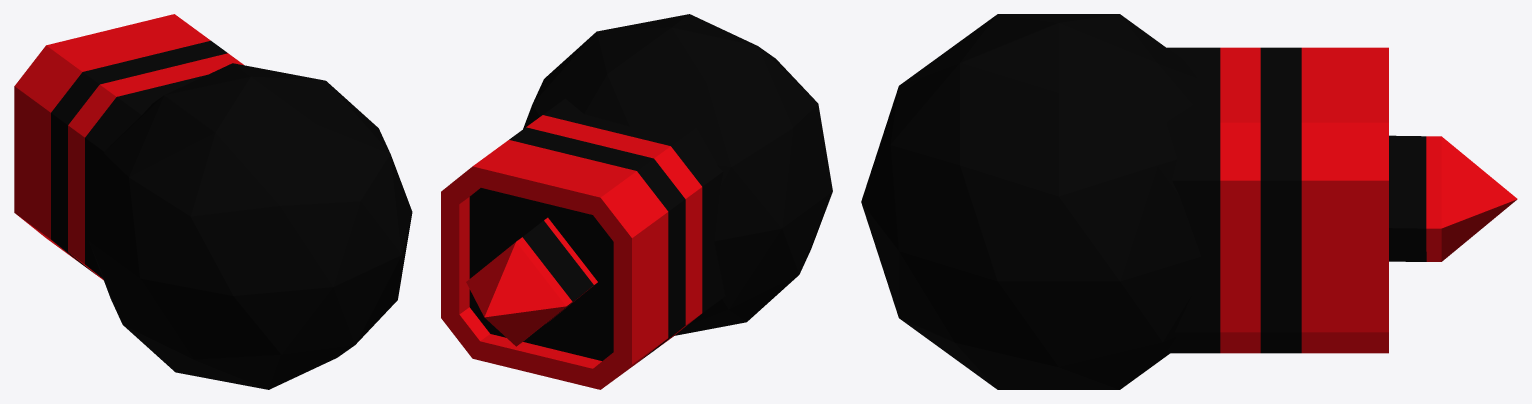
The model's file is Boss_TurretJet_RocketTurret.fbx.
3 renders of one model, left to right at view 1: azimuth 30°, elevation 25°; view 2: azimuth 150°, elevation 25°; view 3: azimuth 270°, elevation 25°, orthographic. The views are drawn at different scales.
Visible parts, largest first — view 1: Icosphere, Cube; view 2: Cube, Icosphere, Projectile_Rocket; view 3: Icosphere, Cube, Projectile_Rocket.
Part boxes in pixels (left/top/right/bottom): Icosphere: left=89, top=63, right=412, bottom=389; Cube: left=14, top=14, right=243, bottom=280; Cube: left=441, top=98, right=725, bottom=389; Icosphere: left=523, top=14, right=832, bottom=335; Projectile_Rocket: left=466, top=217, right=597, bottom=346; Icosphere: left=861, top=14, right=1201, bottom=389; Cube: left=1166, top=47, right=1388, bottom=353; Projectile_Rocket: left=1389, top=135, right=1517, bottom=261.
Size of the model in its own units: 2.58 by 2.71 by 4.51.
